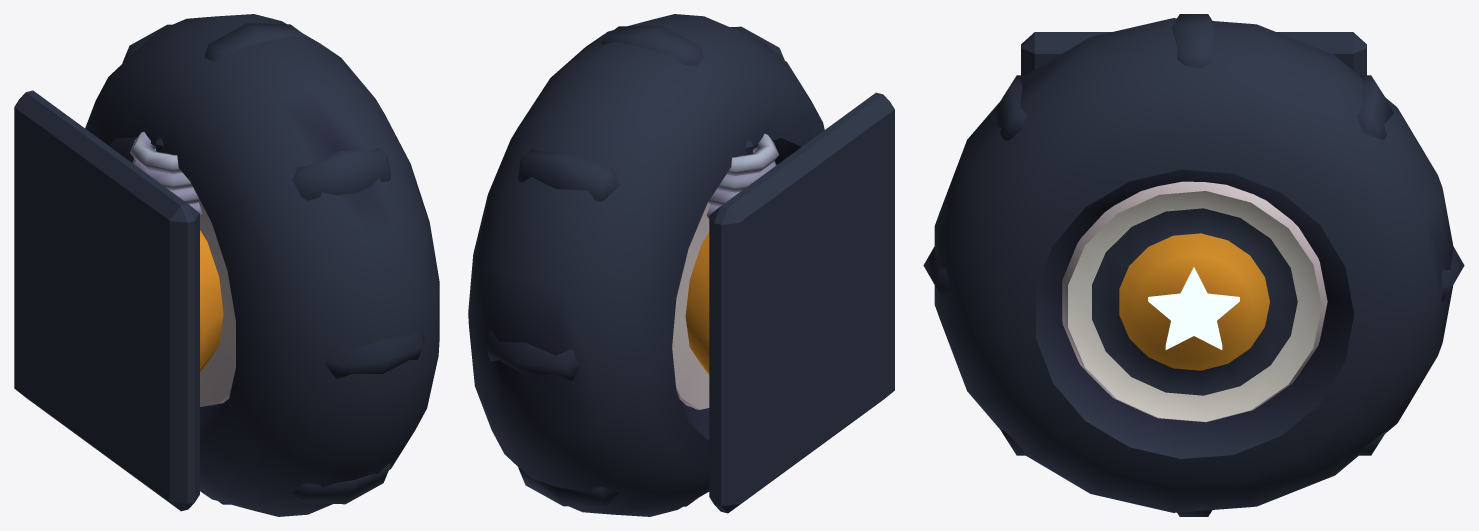
Rendered from R4M_WheelM_Side_Offroad_LOD1.fbx.
The picture shows the model from 3 angles, left to right: view 1: azimuth 30°, elevation 25°; view 2: azimuth 150°, elevation 25°; view 3: azimuth 270°, elevation 25°; orthographic projection. The views are drawn at different scales.
Parts seen in each view (by area): view 1: R4M_WheelM_Side_Offroad_LOD1; view 2: R4M_WheelM_Side_Offroad_LOD1; view 3: R4M_WheelM_Side_Offroad_LOD1.
Boxes of the visible parts, x1,y1,x2,y2 form: R4M_WheelM_Side_Offroad_LOD1: (14, 14, 439, 516); R4M_WheelM_Side_Offroad_LOD1: (468, 14, 894, 516); R4M_WheelM_Side_Offroad_LOD1: (923, 14, 1464, 516).
Bounding box in the file's own units: 0.451 × 0.7665 × 0.782.
